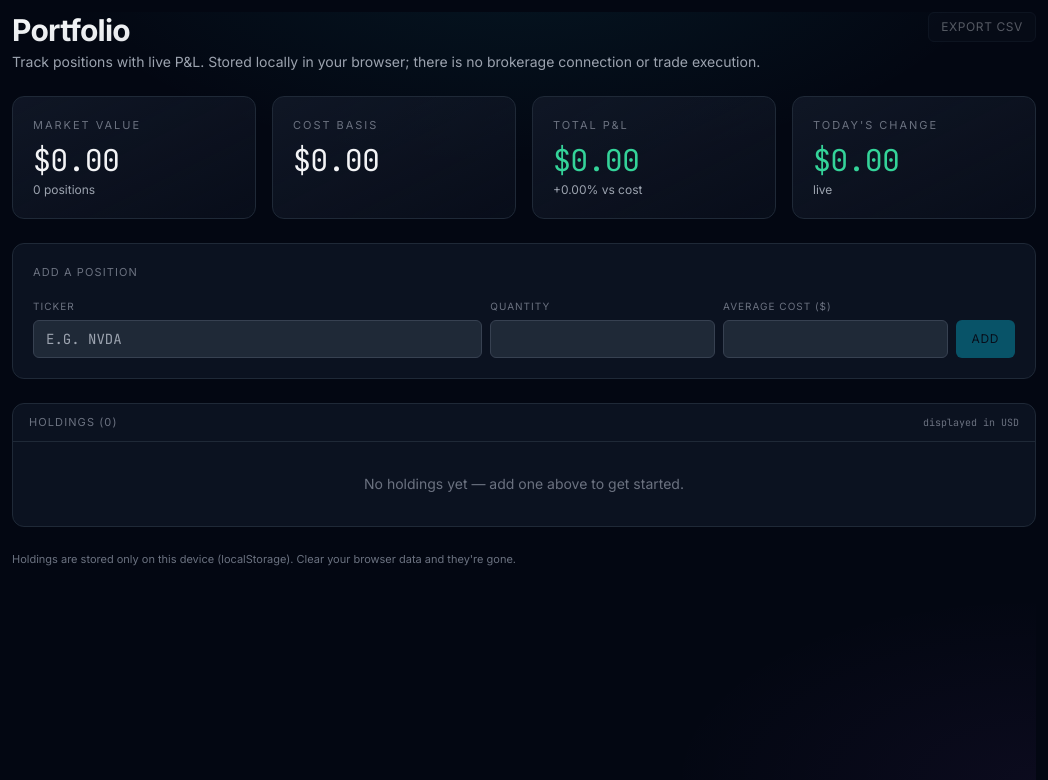
Test: labels every position field and exposes ticker suggestions as a combobox
Expected: the number field labelled "Quantity" is shown, [490,320,715,358]
Expected: the number field labelled "Average cost ($)" is shown, [723,320,948,358]
In the dropdown labelled "Ticker": (258, 339) [33,320,482,358], type "nv"
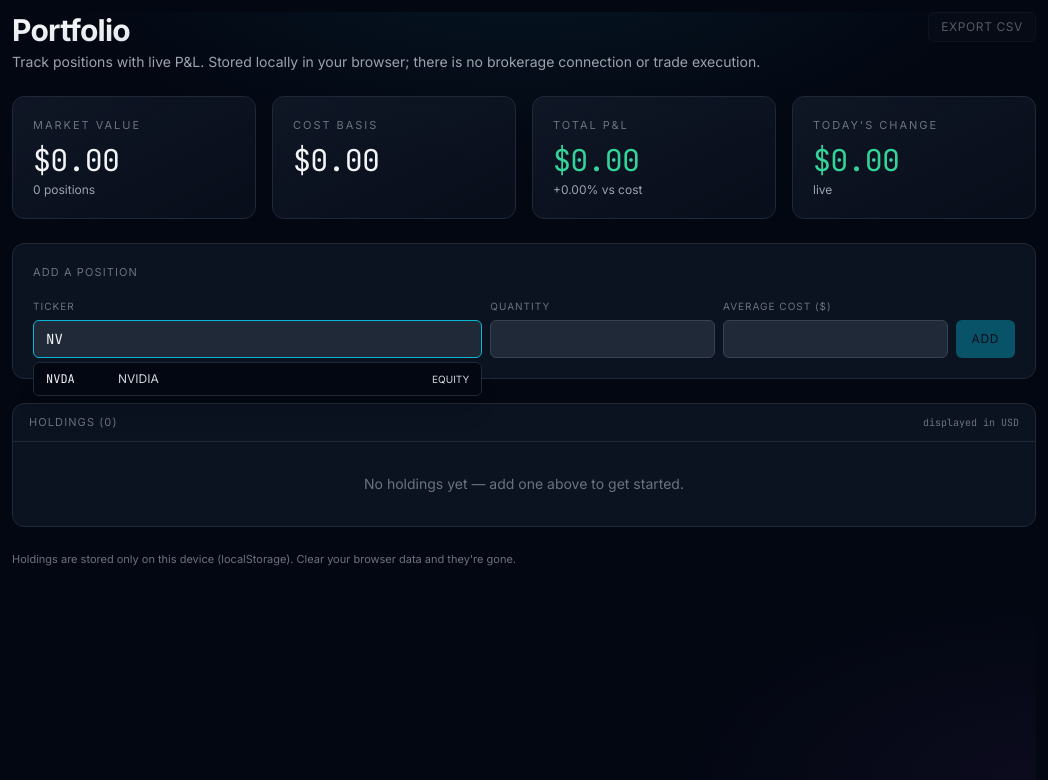
Expected: the dropdown labelled "Ticker" is expanded, [33,320,482,358]
Expected: the list named "Ticker suggestions" is shown, [33,362,482,396]
Expected: the option "NVDA NVIDIA EQUITY" is shown, [46,371,469,387]
